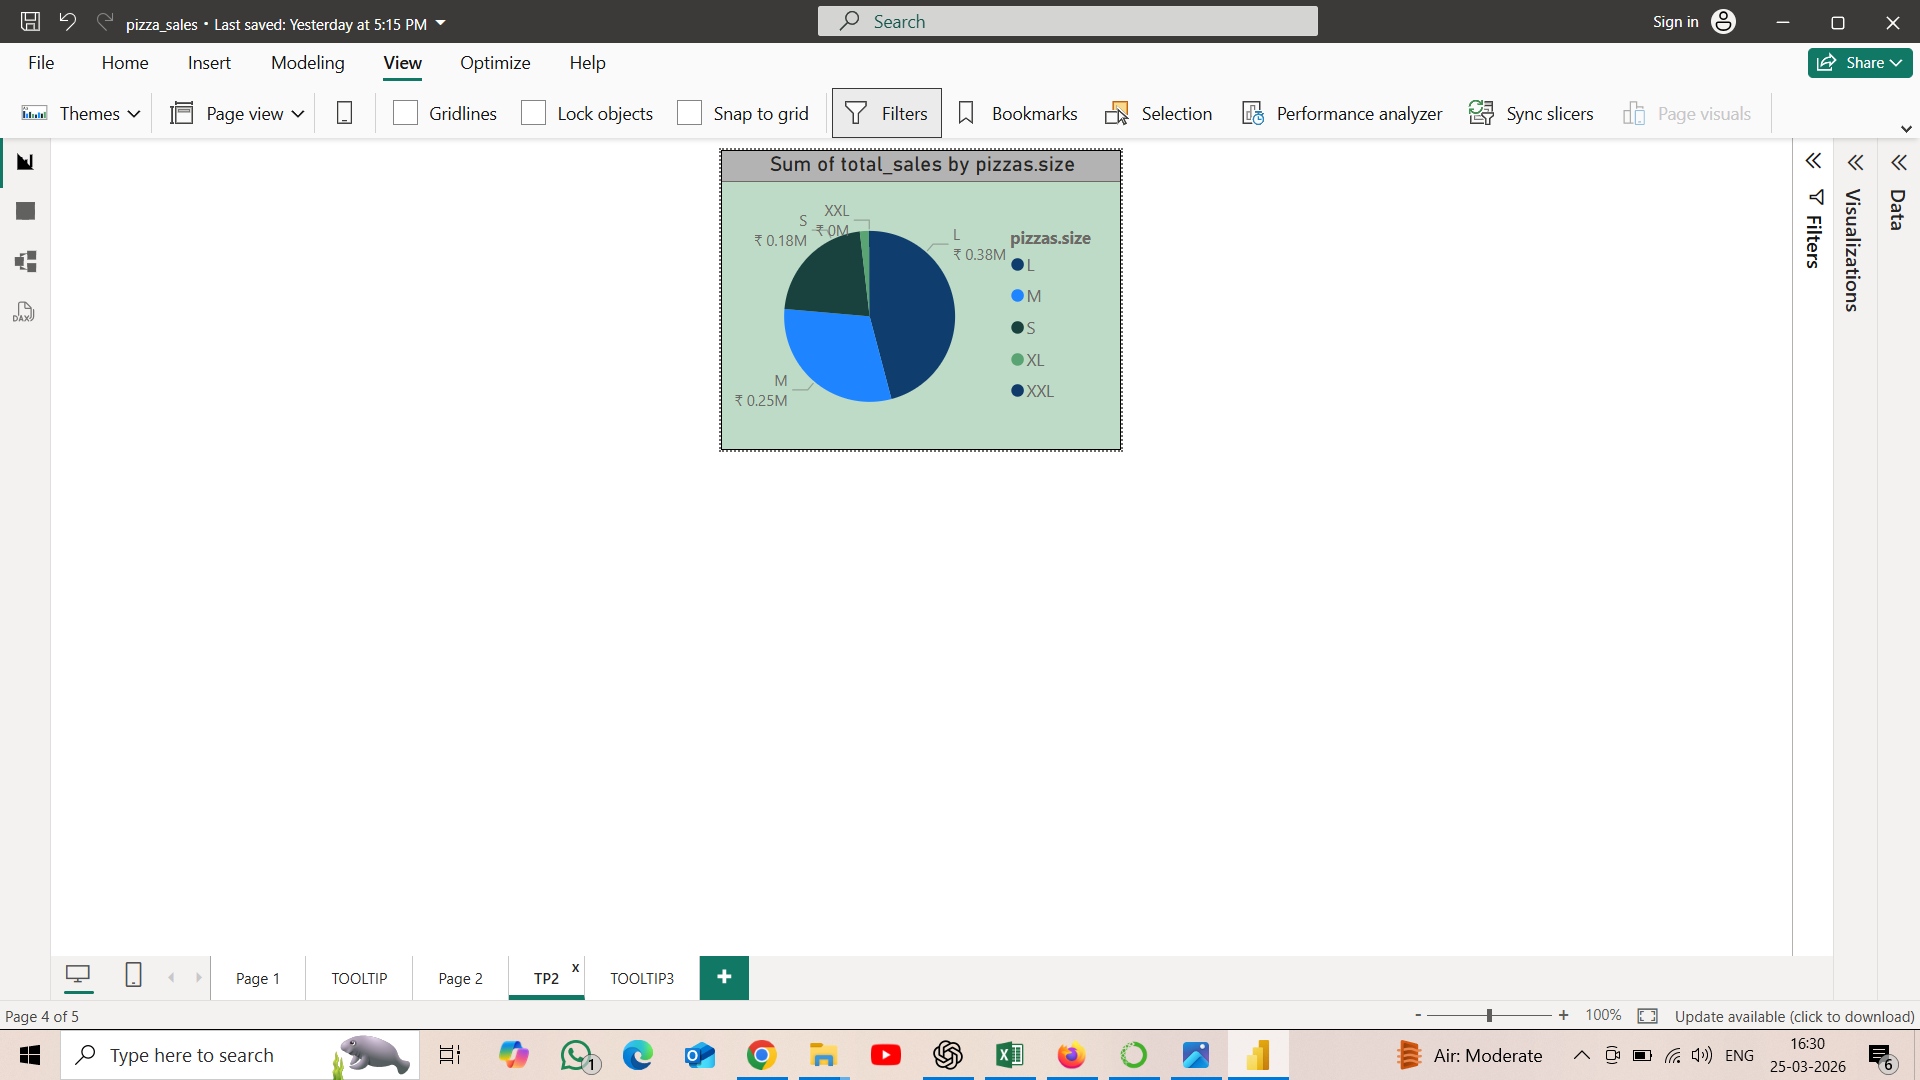

Layout of this report page (visuals, bound fields, positions):
{"tool":"powerbi","page":{"name":"TP2","canvas":[320,240],"ordinal":3},"visuals":[{"type":"pieChart","fields":{"Category":["order_details.pizzas.size"],"Y":["Sum(order_details.total_sales)"]},"box":[0,0,320,240],"z":0}]}

Visuals, with their boxes on the page's 320x240 design canvas (x1, y1, x2, y2). These are canvas units, not pixel positions in the 1920x1080 screenshot, which may show the page scaled, cropped or inside an application window:
pieChart - order_details.pizzas.size x Sum(order_details.total_sales): l=0, t=0, r=320, b=240
